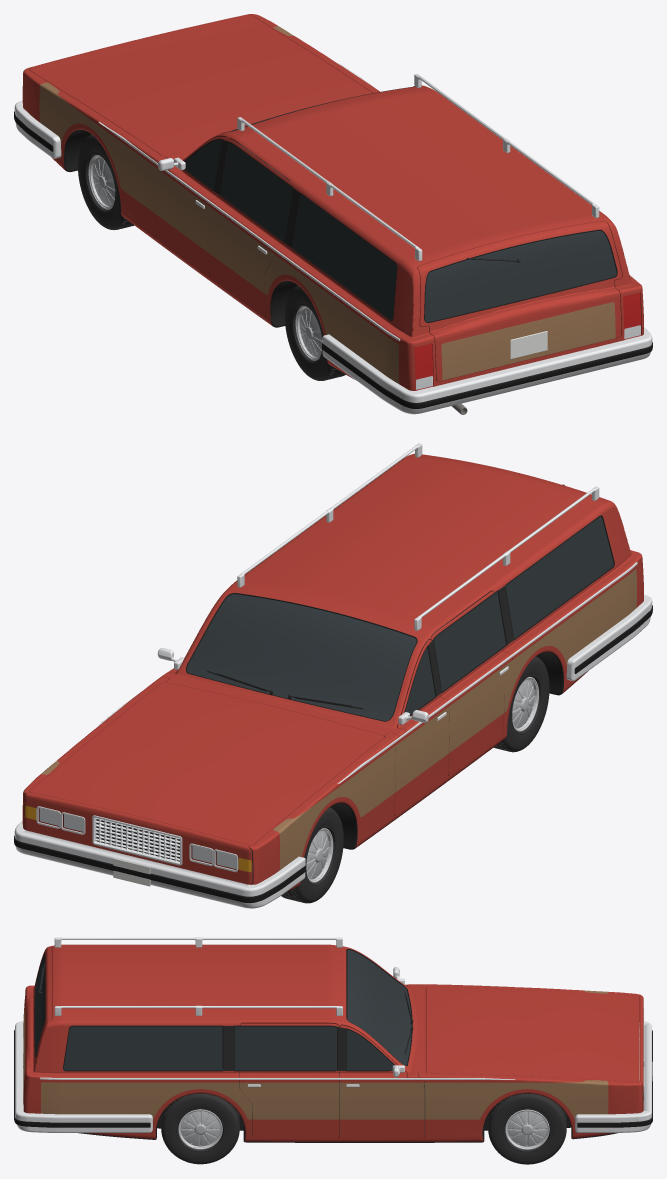
File: homestead.glb
3 views of the same model, one above another, from view 1: azimuth 30°, elevation 25°; view 2: azimuth 150°, elevation 25°; view 3: azimuth 270°, elevation 25° (orthographic). The views are drawn at different scales.
Visible parts, largest first — view 1: Body, Hood, Trunk, Glass_Rear, Fender_FL, Bumper_R, Glass_QL, Door_RL, Door_FL, Glass_RL, Bumper_R_Strip, Roof_Rack (+11 smaller); view 2: Body, Hood, Glass_Front, Fender_FL, Glass_QL, Door_RL, Bumper_F, Door_FL, Glass_RL, Grille, Roof_Rack, Bumper_F_Strip (+11 smaller); view 3: Body, Hood, Fender_FR, Glass_QR, Door_RR, Door_FR, Glass_Front, Glass_RR, Wheel_FR_Tyre, Wheel_RR_Tyre, Bumper_R, Roof_Rack (+12 smaller).
Boxes of the visible parts, x1=… form: Body: x1=29, y1=14, x2=643, y2=390; Hood: x1=30, y1=15, x2=372, y2=156; Trunk: x1=417, y1=221, x2=622, y2=381; Glass_Rear: x1=424, y1=229, x2=617, y2=323; Fender_FL: x1=22, y1=68, x2=167, y2=235; Bumper_R: x1=322, y1=327, x2=652, y2=414; Glass_QL: x1=291, y1=193, x2=397, y2=320; Door_RL: x1=209, y1=139, x2=290, y2=316; Door_FL: x1=155, y1=136, x2=227, y2=275; Glass_RL: x1=219, y1=141, x2=293, y2=242; Bumper_R_Strip: x1=322, y1=341, x2=652, y2=408; Roof_Rack: x1=237, y1=74, x2=599, y2=261; Body: x1=23, y1=453, x2=643, y2=893; Hood: x1=29, y1=682, x2=384, y2=845; Glass_Front: x1=186, y1=593, x2=417, y2=721; Fender_FL: x1=249, y1=732, x2=398, y2=891; Glass_QL: x1=505, y1=515, x2=614, y2=639; Door_RL: x1=431, y1=591, x2=512, y2=775; Bumper_F: x1=14, y1=821, x2=305, y2=908; Door_FL: x1=394, y1=639, x2=449, y2=814; Glass_RL: x1=433, y1=590, x2=507, y2=692; Grille: x1=92, y1=815, x2=182, y2=865; Roof_Rack: x1=237, y1=443, x2=599, y2=630; Bumper_F_Strip: x1=14, y1=835, x2=305, y2=902; Body: x1=23, y1=944, x2=643, y2=1142; Hood: x1=426, y1=987, x2=639, y2=1081; Fender_FR: x1=418, y1=1072, x2=642, y2=1136; Glass_QR: x1=63, y1=1025, x2=223, y2=1071; Door_RR: x1=240, y1=1023, x2=339, y2=1137; Door_FR: x1=339, y1=1025, x2=424, y2=1137; Glass_Front: x1=346, y1=949, x2=412, y2=1065; Glass_RR: x1=234, y1=1025, x2=337, y2=1071; Wheel_FR_Tyre: x1=488, y1=1093, x2=566, y2=1164; Wheel_RR_Tyre: x1=161, y1=1093, x2=239, y2=1164; Bumper_R: x1=15, y1=1021, x2=152, y2=1132; Roof_Rack: x1=54, y1=937, x2=342, y2=1015.
Bounding box in the file's own units: 2.22 × 1.51 × 5.77.
